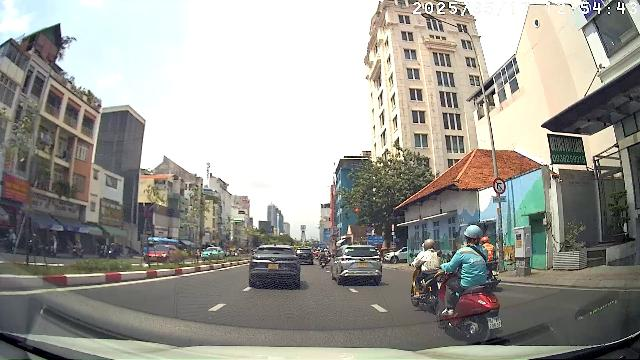103b-cam-oto-re-phai: (493, 177, 506, 194)
